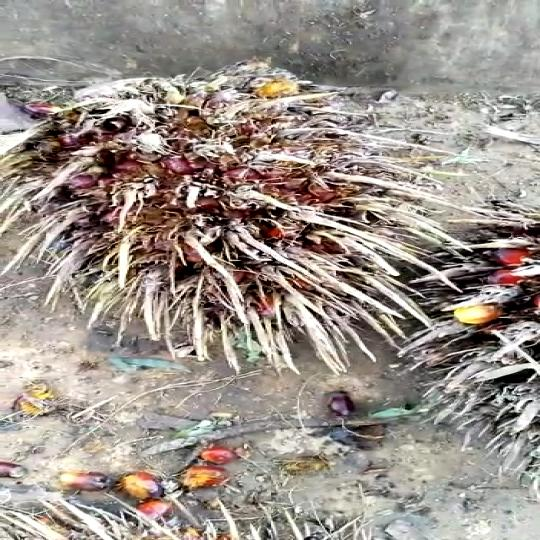terlalu masak: (0, 51, 511, 371)
